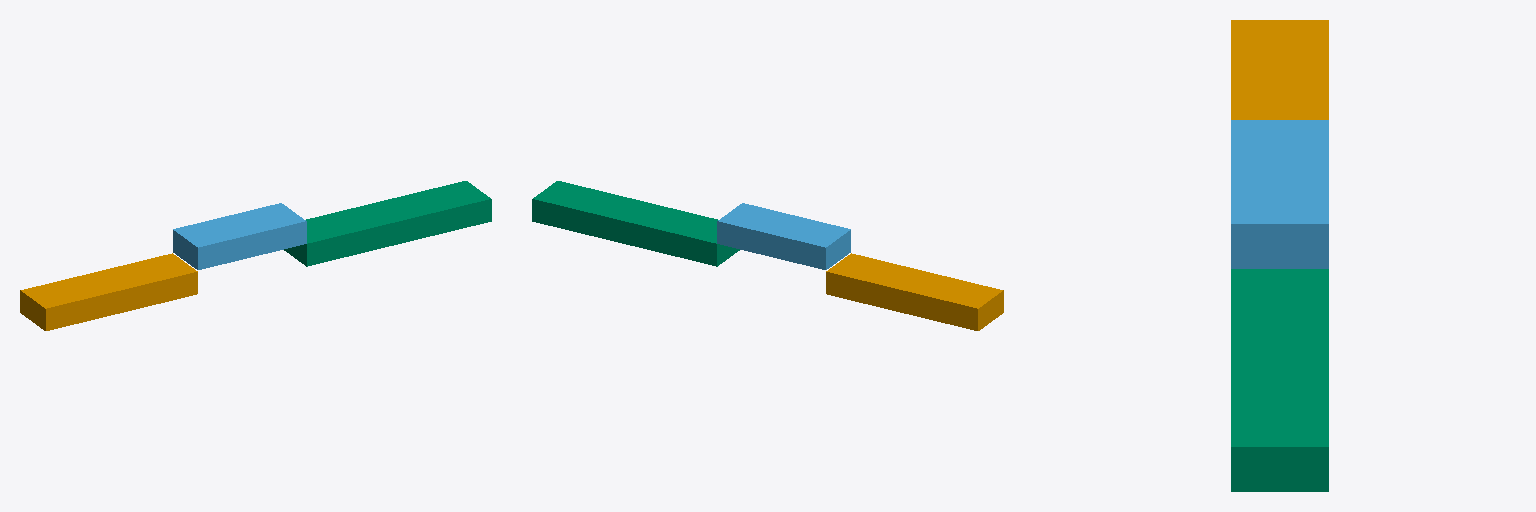
URDF robot description (test_data_v6):
<?xml version="1.0" encoding="utf-8"?>
<robot name="test_data_v6">
	<link name="link0:1">
		<inertial>
			<mass value="0.1099"/>
			<origin rpy="-0.0 -0.0 -0.0" xyz="0.035 0.01 0.005"/>
			<inertia ixx="4.579166666666662e-06" ixy="0.0" ixz="0.0" iyy="4.579166666666663e-05" iyz="0.0" izz="4.8539166666666644e-05"/>
		</inertial>
		<collision name="link0:1_collision">
			<origin rpy="0.0 -0.0 0.0" xyz="0.0 0.0 0.0"/>
			<geometry>
				<mesh filename="./meshes/link0.stl" scale="1.0 1.0 1.0"/>
			</geometry>
		</collision>
		<visual name="link0:1_visual">
			<origin rpy="0.0 -0.0 0.0" xyz="0.0 0.0 0.0"/>
			<geometry>
				<mesh filename="./meshes/link0.stl" scale="1.0 1.0 1.0"/>
			</geometry>
		</visual>
	</link>
	<link name="link1:1">
		<inertial>
			<mass value="0.07849999999999999"/>
			<origin rpy="-0.0 0.0 1.6653345369377506e-16" xyz="0.10500000000000001 0.01 0.004999999999999999"/>
			<inertia ixx="3.2708333333332285e-06" ixy="0.0" ixz="0.0" iyy="1.7008333333332626e-05" iyz="0.0" izz="1.8970833333349903e-05"/>
		</inertial>
		<collision name="link1:1_collision">
			<origin rpy="0.0 -0.0 -1.6653345369377508e-16" xyz="-0.07999999999999924 -0.009999999999999891 -0.009999999999999997"/>
			<geometry>
				<mesh filename="./meshes/link1.stl" scale="1.0 1.0 1.0"/>
			</geometry>
		</collision>
		<visual name="link1:1_visual">
			<origin rpy="0.0 -0.0 -1.6653345369377508e-16" xyz="-0.07999999999999924 -0.009999999999999891 -0.009999999999999997"/>
			<geometry>
				<mesh filename="./meshes/link1.stl" scale="1.0 1.0 1.0"/>
			</geometry>
		</visual>
	</link>
	<link name="link2:1">
		<inertial>
			<mass value="0.13344999999999999"/>
			<origin rpy="-1.5707963267948966 -8.326672684688688e-17 -1.9428902930940207e-16" xyz="0.04250000000000001 0.004999999999999999 -0.010000000000000002"/>
			<inertia ixx="5.560416666666607e-06" ixy="4.4408920985006264e-20" ixz="4.4408920985006264e-20" iyy="8.146010416666769e-05" iyz="1.3877787807814457e-21" izz="8.479635416666725e-05"/>
		</inertial>
		<collision name="link2:1_collision">
			<origin rpy="1.5707963267948966 -1.9428902930940207e-16 8.326672684688688e-17" xyz="0.0 -0.010000000000000007 -0.009999999999999998"/>
			<geometry>
				<mesh filename="./meshes/link2.stl" scale="1.0 1.0 1.0"/>
			</geometry>
		</collision>
		<visual name="link2:1_visual">
			<origin rpy="1.5707963267948966 -1.9428902930940207e-16 8.326672684688688e-17" xyz="0.0 -0.010000000000000007 -0.009999999999999998"/>
			<geometry>
				<mesh filename="./meshes/link2.stl" scale="1.0 1.0 1.0"/>
			</geometry>
		</visual>
	</link>
	<joint name="rev0" type="continuous">
		<parent link="link0:1"/>
		<child link="link1:1"/>
		<origin rpy="0 0 0" xyz="0.06999999999999999 0.009999999999999988 0.020499999999999997"/>
		<axis xyz="0.0 0.0 1.0"/>
	</joint>
	<joint name="rev1" type="continuous">
		<parent link="link1:1"/>
		<child link="link2:1"/>
		<origin rpy="0 0 0" xyz="0.05 0.0 -0.010000000000000018"/>
		<axis xyz="0.0 0.0 -1.0"/>
	</joint>
</robot>

--- Render facts (derived) ---
3 views of the same robot in one strip: view 1: azimuth 30°, elevation 25°; view 2: azimuth 150°, elevation 25°; view 3: azimuth 270°, elevation 25° (orthographic).
Model test_data_v6 with 3 links and 2 joints (2 continuous), rooted at link0:1, posed every joint at zero.
Links seen in each view (by area): view 1: link2:1, link0:1, link1:1; view 2: link2:1, link0:1, link1:1; view 3: link2:1, link1:1, link0:1.
Boxes of the visible links, left/top/right/bottom form: link2:1: left=284, top=181, right=491, bottom=266; link0:1: left=20, top=253, right=197, bottom=330; link1:1: left=173, top=203, right=306, bottom=269; link2:1: left=532, top=181, right=739, bottom=266; link0:1: left=826, top=253, right=1003, bottom=330; link1:1: left=717, top=203, right=850, bottom=269; link2:1: left=1231, top=269, right=1328, bottom=491; link1:1: left=1231, top=120, right=1328, bottom=268; link0:1: left=1231, top=20, right=1328, bottom=119.
Bounding box of the posed robot: 0.205 × 0.02 × 0.0205 m (x, y, z).
Meshes: 3 distinct files referenced, 3 mesh visuals loaded (3 binary STL).